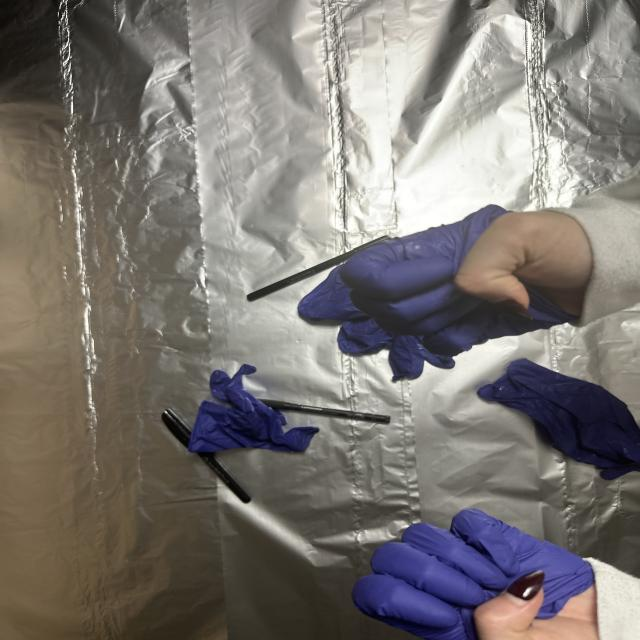glove_partial: (343, 206, 596, 358), (342, 508, 609, 640)
